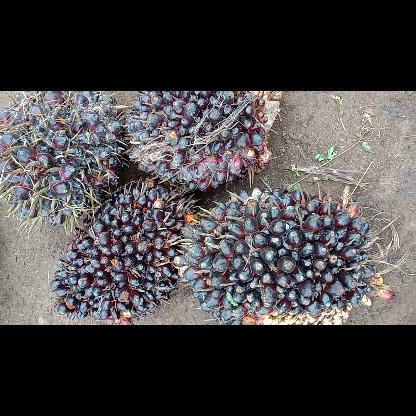TBS mentah: (174, 184, 396, 324), (48, 174, 198, 324), (0, 91, 127, 228), (122, 91, 286, 195)
